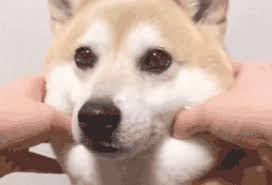dog: (39, 1, 232, 163)
